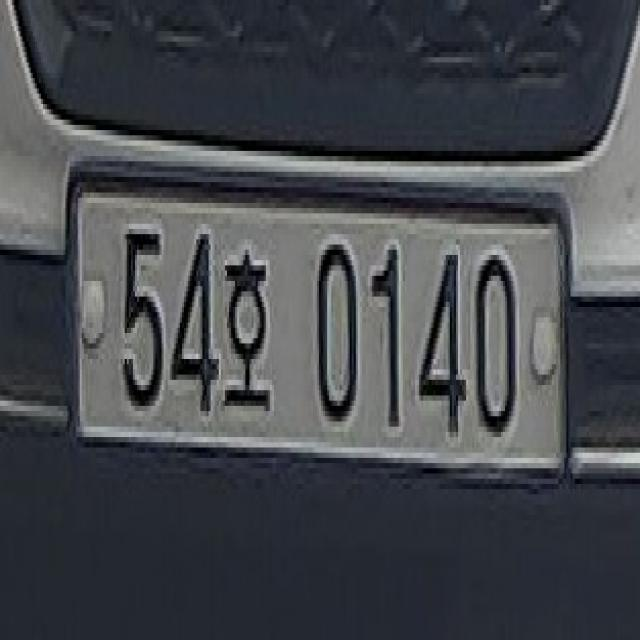0: (474, 234, 526, 463), (313, 218, 364, 426)
1: (368, 244, 417, 432)
4: (413, 219, 468, 463), (164, 203, 218, 421)
5: (118, 203, 166, 421)
ho: (213, 213, 272, 432)
license_plate: (61, 151, 583, 463)
